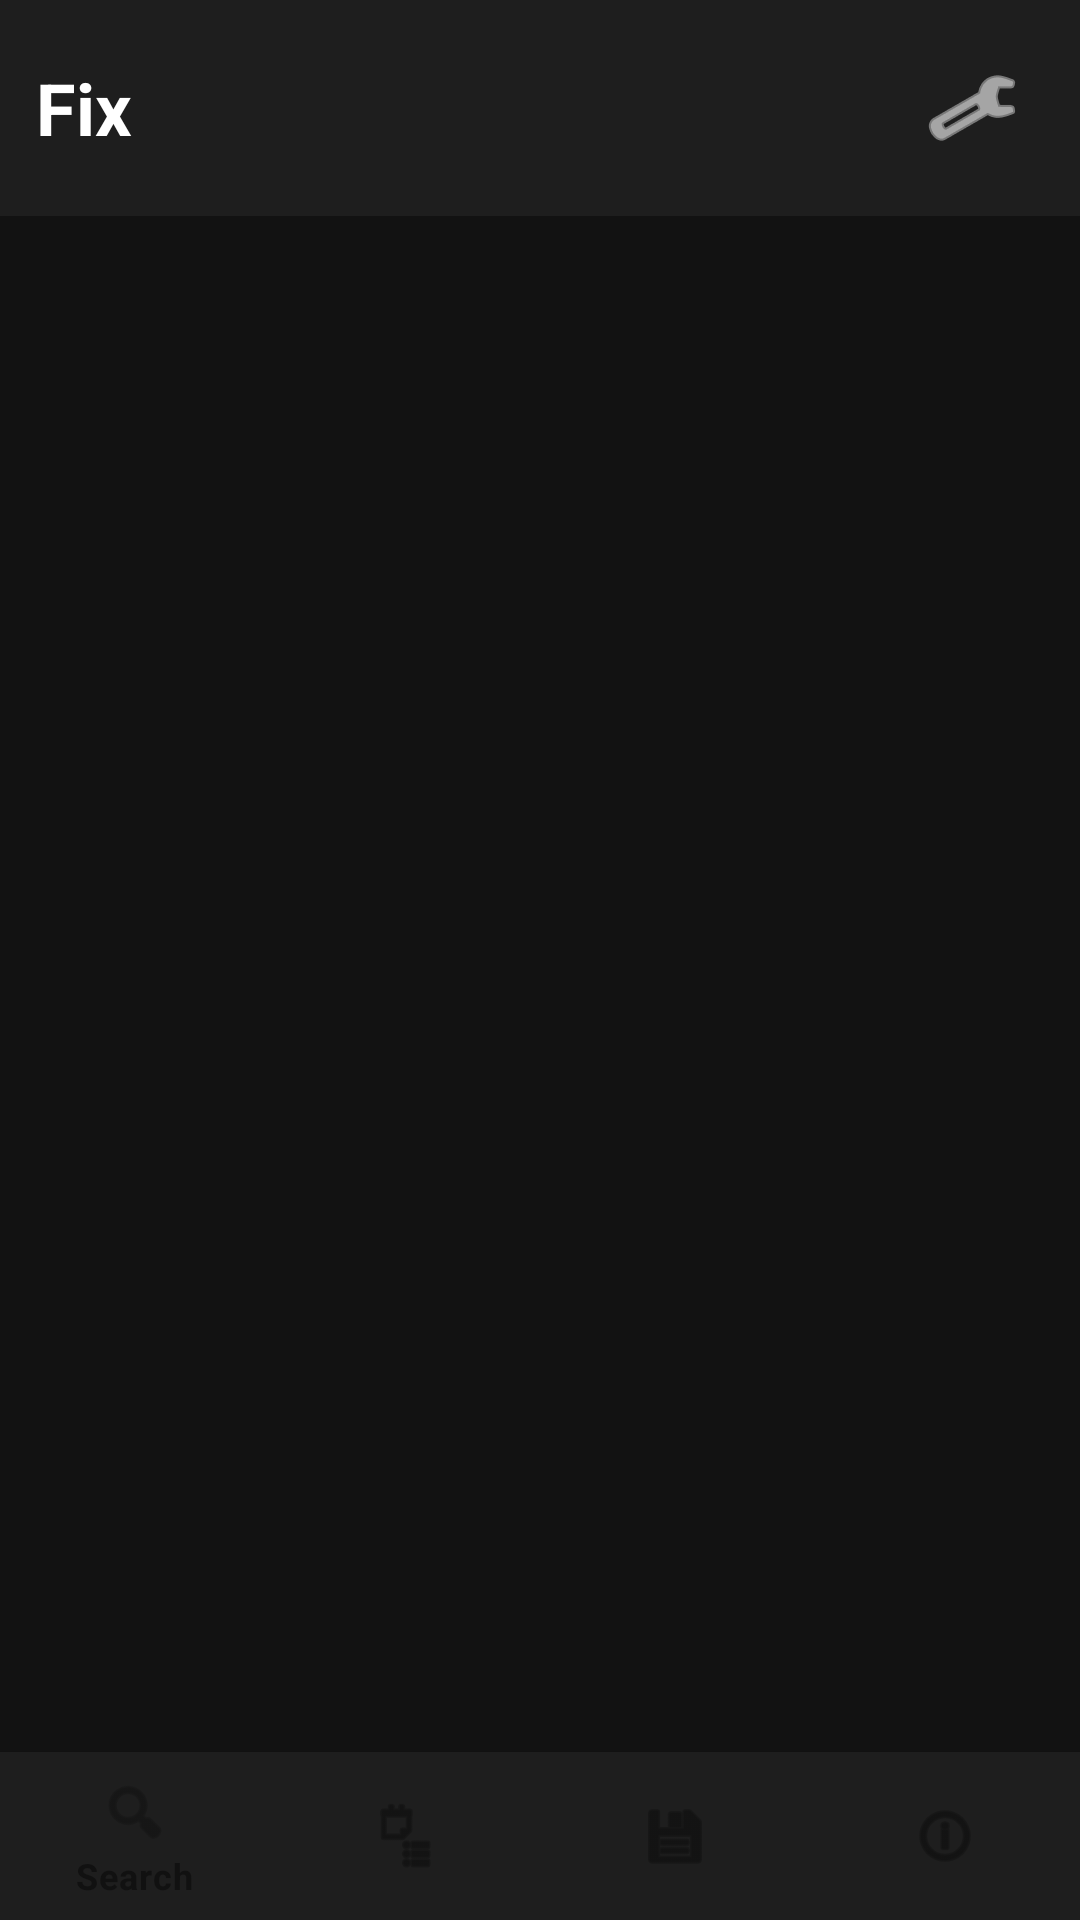

Icon click points for this 1080px x 1920px phone screenshot, format point (x, y):
Settings: point (972, 108)
